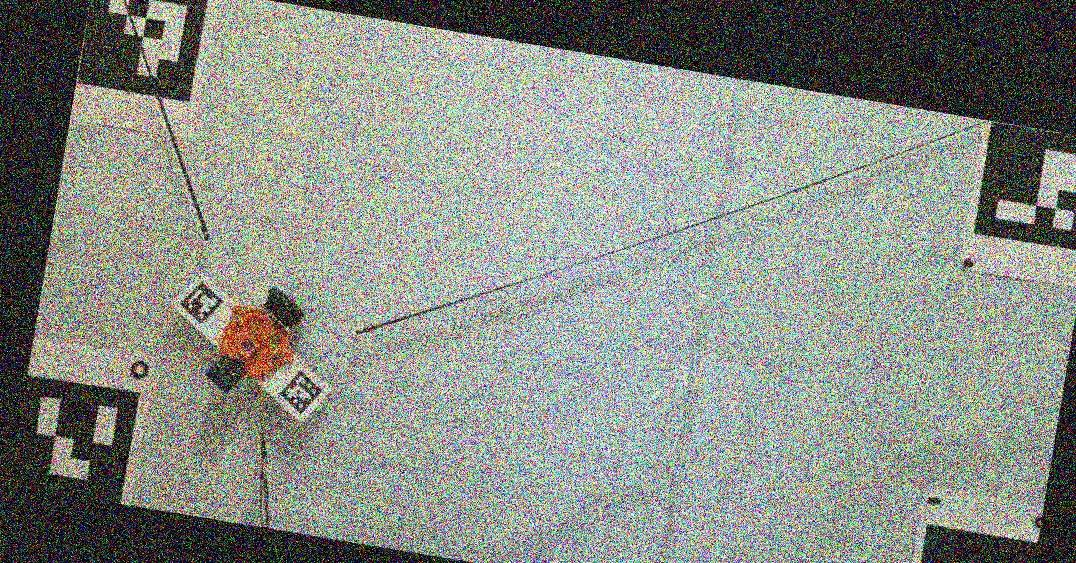robot: (209, 287, 303, 393)
